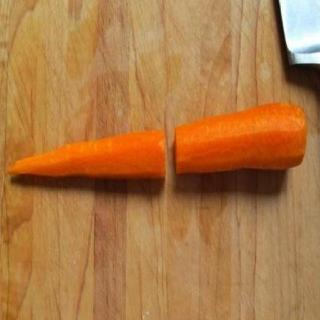carrot: (174, 103, 307, 179), (6, 129, 168, 186)
